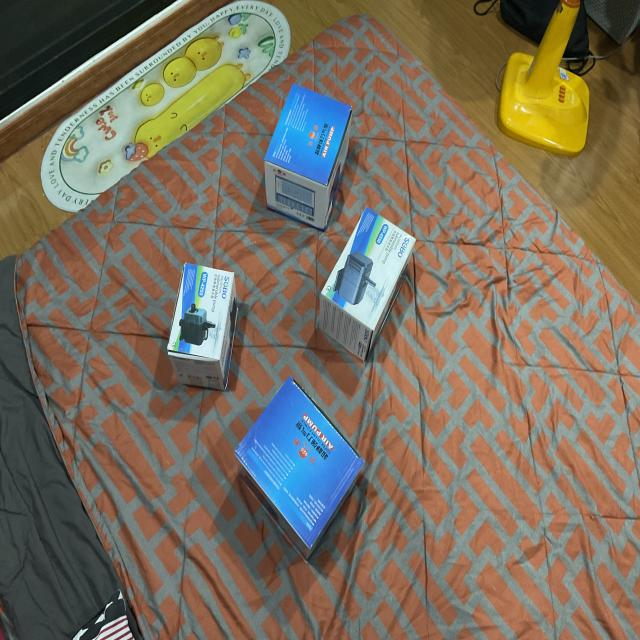SOBO_WP_4200: (304, 198, 424, 368), (164, 251, 245, 398)
YAMANO_LPP_20: (217, 368, 390, 570), (250, 78, 374, 237)
